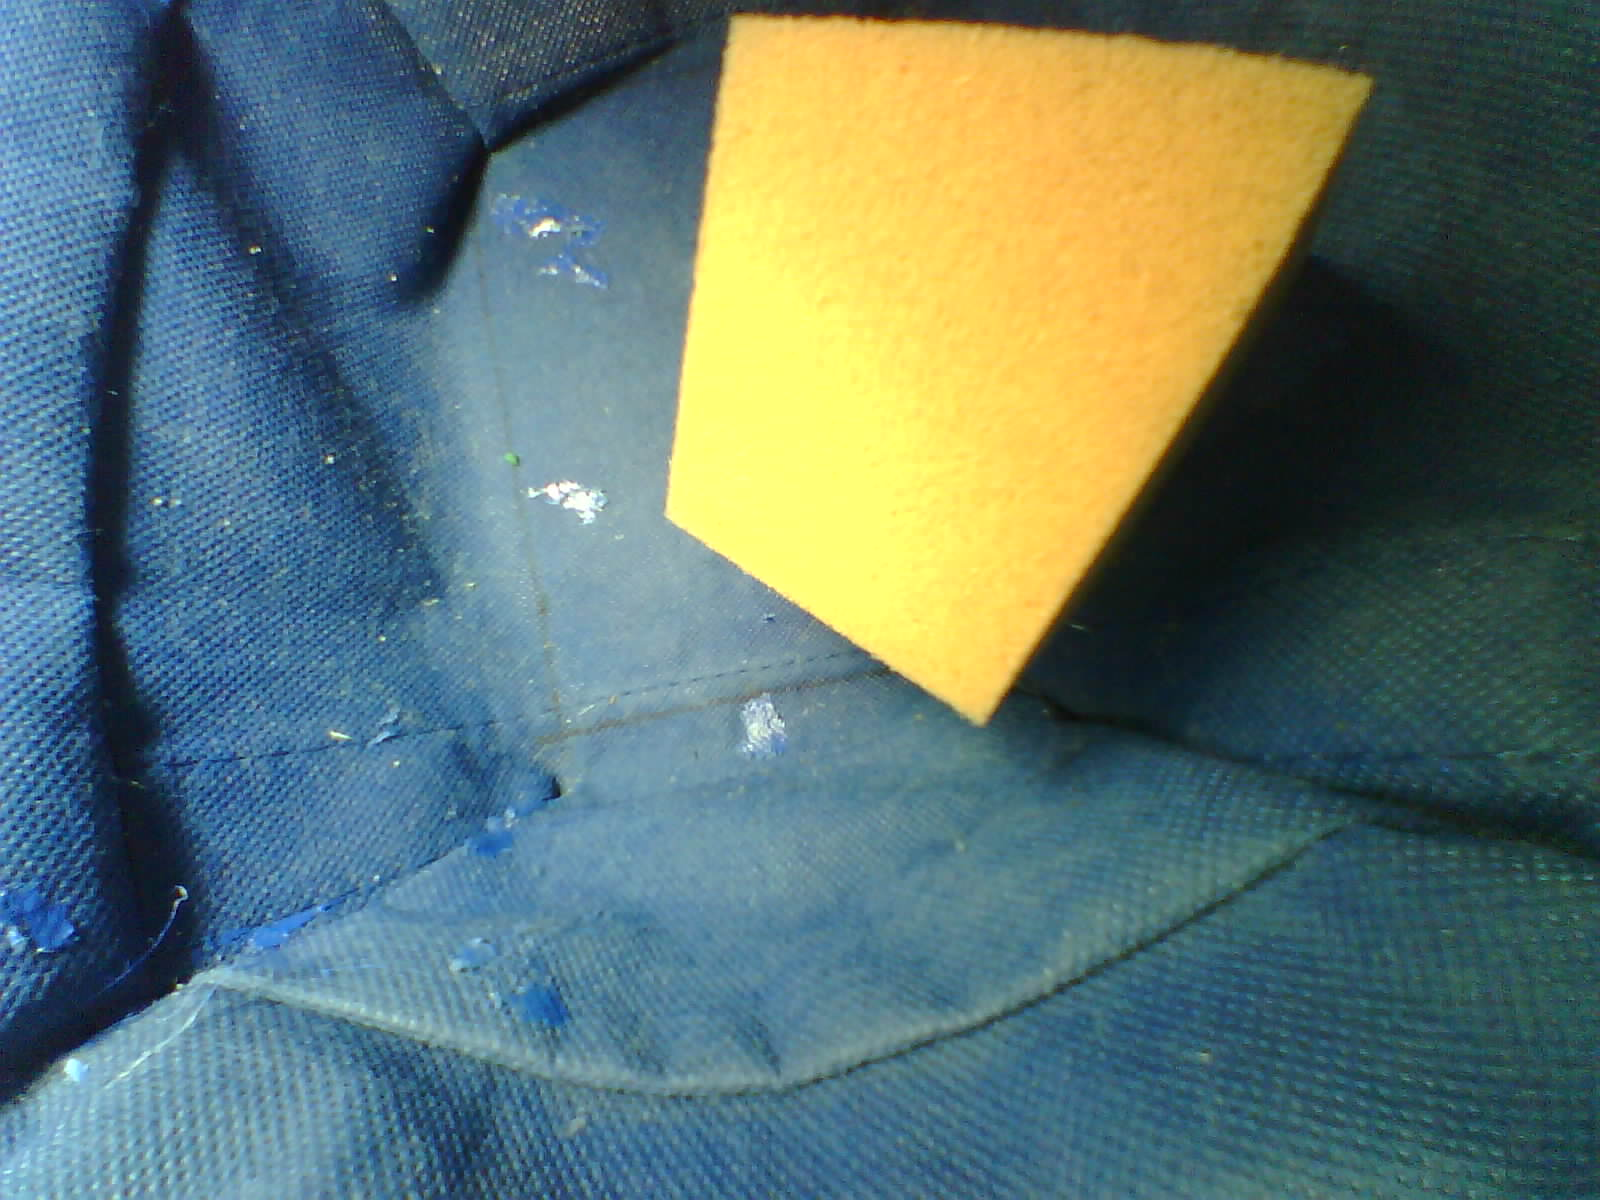cube-soft: (649, 0, 1382, 747)
